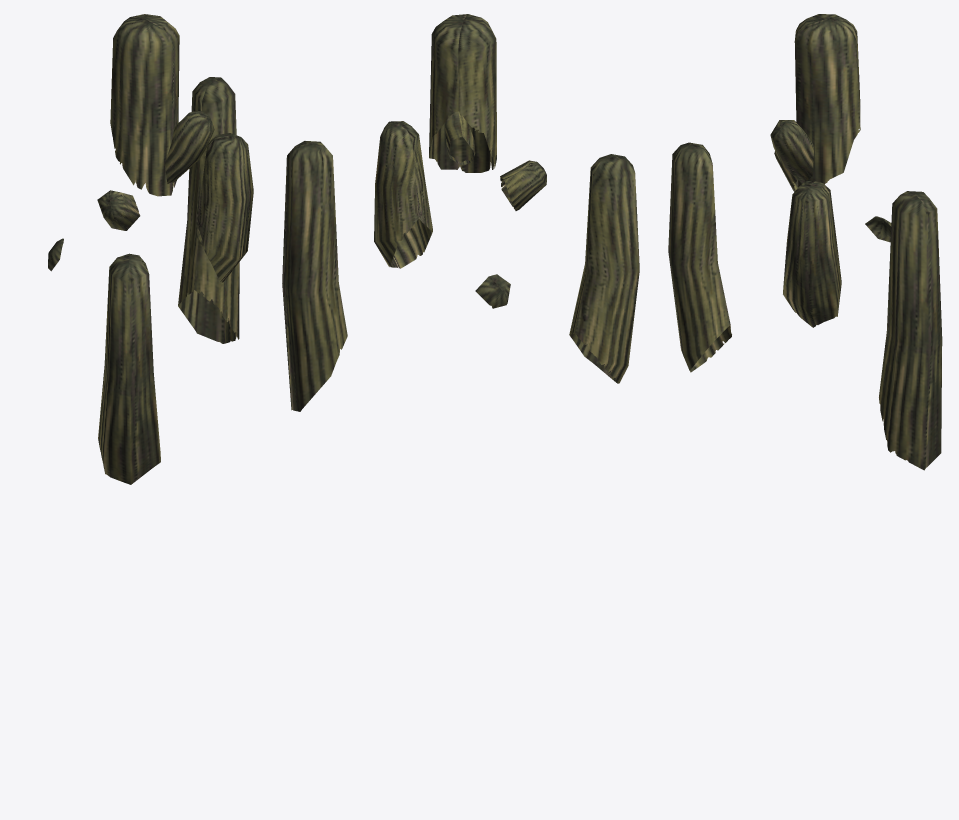
The model's file is Cactus_v2.gltf.
3 views of the same model, side by side, from view 1: azimuth 30°, elevation 25°; view 2: azimuth 150°, elevation 25°; view 3: azimuth 270°, elevation 25° (orthographic).
Parts seen in each view (by area): view 1: Cactus_v2(Clone); view 2: Cactus_v2(Clone); view 3: Cactus_v2(Clone).
Part boxes in pixels (left/top/right/bottom): Cactus_v2(Clone): left=48, top=14, right=253, bottom=484; Cactus_v2(Clone): left=282, top=14, right=639, bottom=411; Cactus_v2(Clone): left=668, top=14, right=942, bottom=470.
Size of the model in its own units: 1.17 by 3.14 by 1.02.
Materials: 1 (1 with a texture image).
